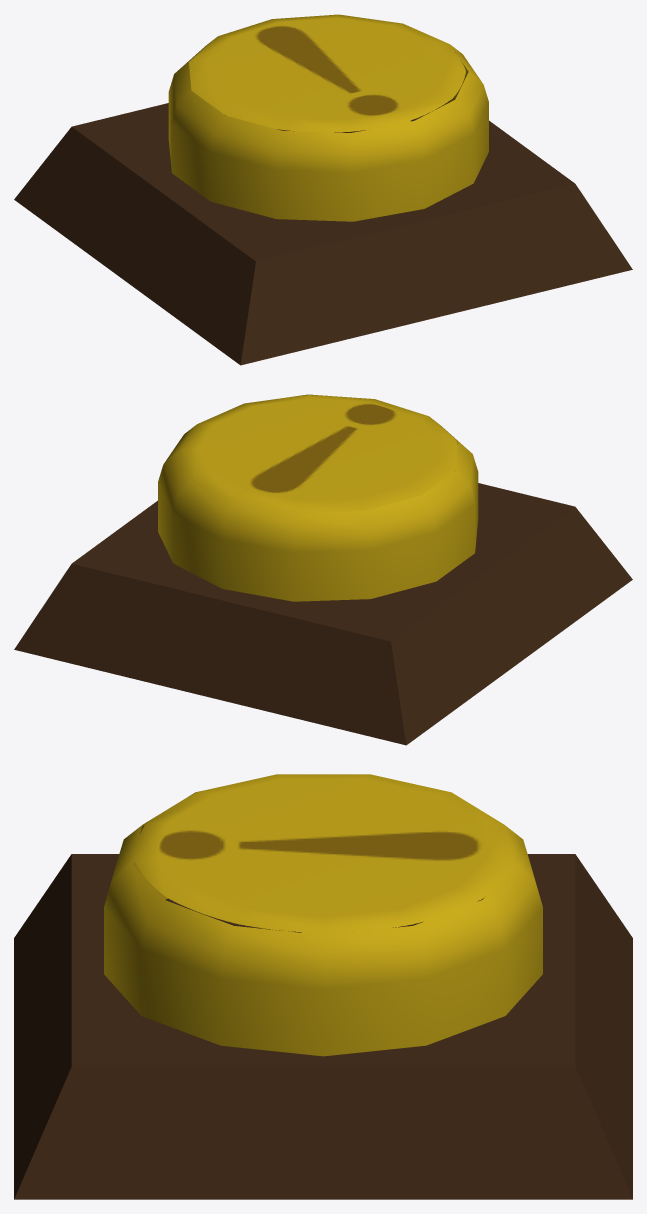
File: buttom.fbx
3 renders of one model, top to bottom at view 1: azimuth 30°, elevation 25°; view 2: azimuth 150°, elevation 25°; view 3: azimuth 270°, elevation 25°, orthographic. The views are drawn at different scales.
Parts seen in each view (by area): view 1: pCube9, pCylinder3; view 2: pCube9, pCylinder3; view 3: pCube9, pCylinder3.
Boxes of the visible parts, <box> form: pCube9: <box>14,103,632,365</box>; pCylinder3: <box>168,14,488,221</box>; pCube9: <box>14,483,632,745</box>; pCylinder3: <box>158,394,478,601</box>; pCube9: <box>14,854,632,1199</box>; pCylinder3: <box>104,774,542,1056</box>.
Size of the model in its own units: 0.2086 by 0.0836 by 0.2086.
2 materials, 1 textured.
